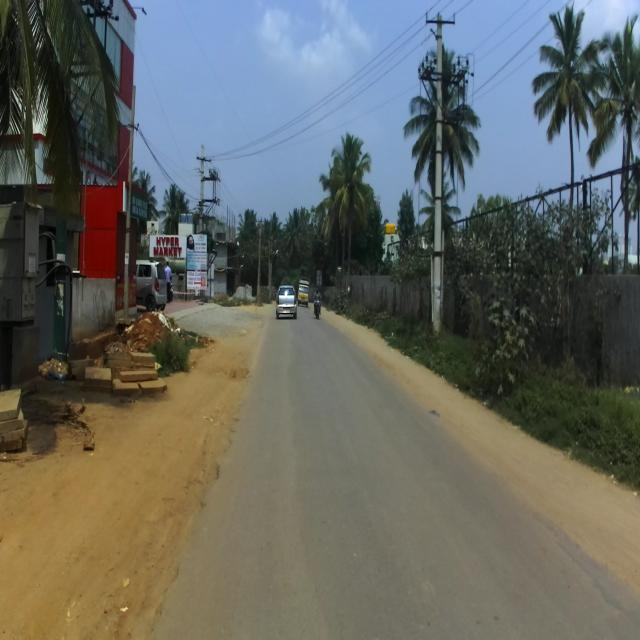electric pole ahead at: (420, 7, 458, 332)
stones ahead at: (40, 350, 170, 407)
